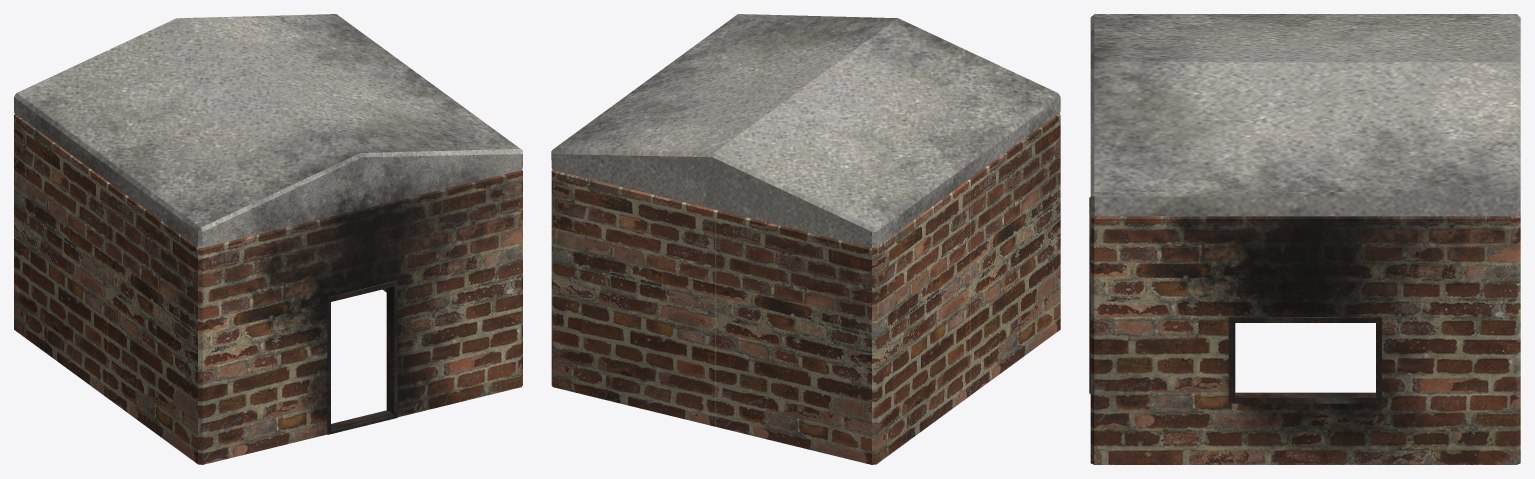
File: 장애물_소각장.fbx
3 views of the same model, side by side, from view 1: azimuth 30°, elevation 25°; view 2: azimuth 150°, elevation 25°; view 3: azimuth 270°, elevation 25° (orthographic). The views are drawn at different scales.
Parts seen in each view (by area): view 1: 소각장; view 2: 소각장; view 3: 소각장.
Part boxes in pixels (left/top/right/bottom): 소각장: left=14, top=14, right=522, bottom=464; 소각장: left=551, top=14, right=1060, bottom=464; 소각장: left=1089, top=14, right=1520, bottom=464.
Size of the model in its own units: 501 by 399 by 500.
